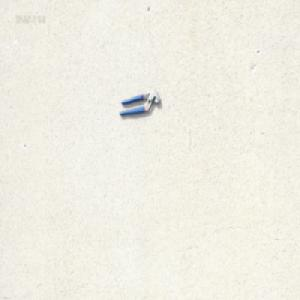Pliers: (118, 89, 161, 117)
